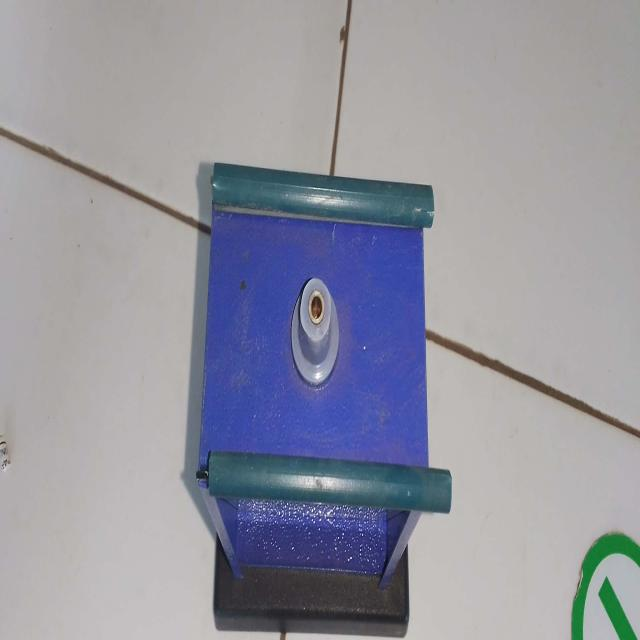Electroscope: (188, 154, 460, 640)
